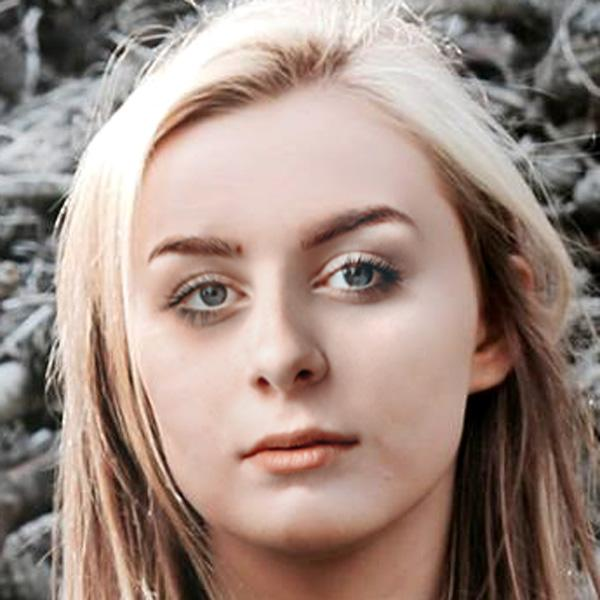Eyes: (301, 240, 409, 312), (156, 264, 258, 331)
